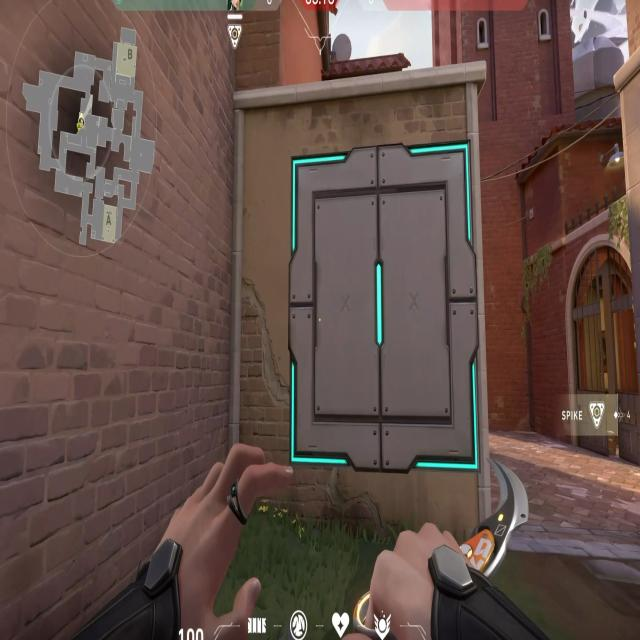Mid_Wall: (288, 148, 482, 490)
